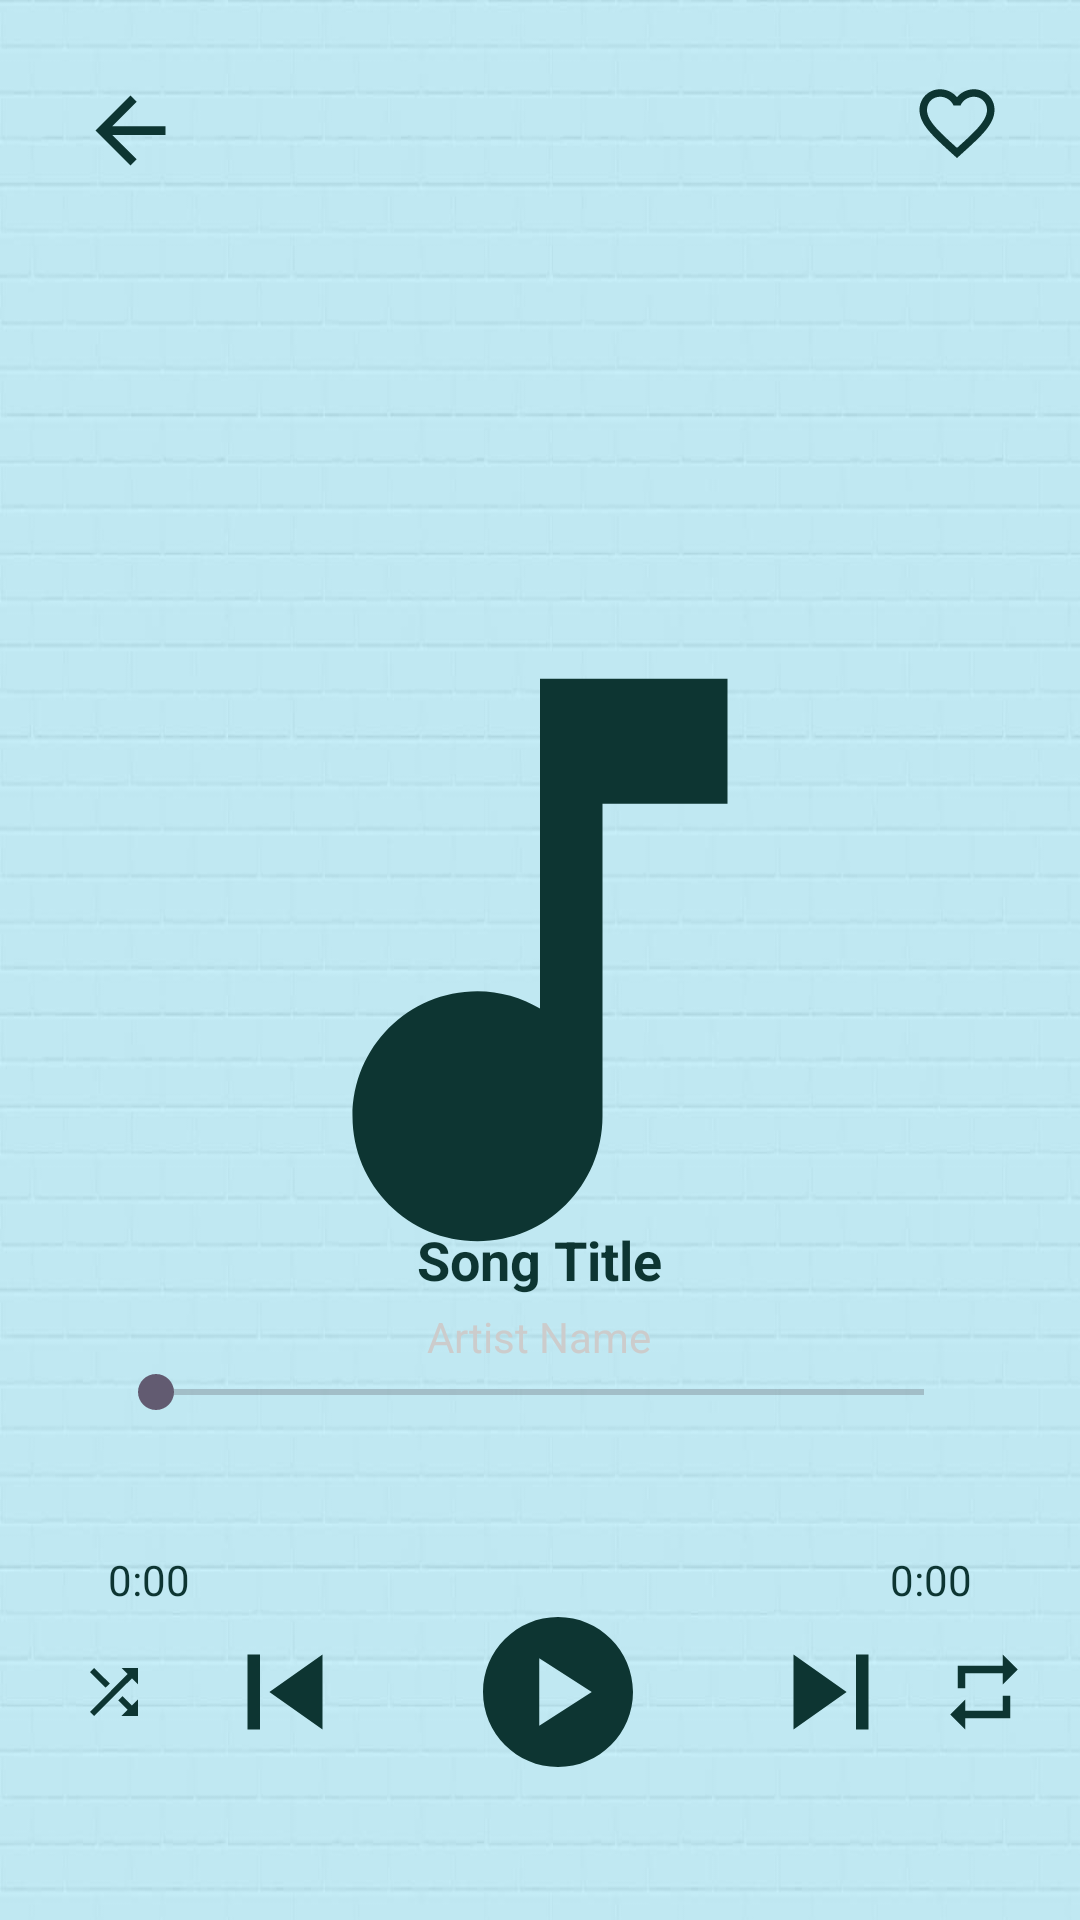

Icon bounding boxes for this 1080 x 1920 phone screenshot, format (x1, y1, x2, y2):
Play/Pause: (483, 1617, 633, 1767)
Previous: (247, 1654, 323, 1730)
Repeat: (950, 1654, 1018, 1729)
Shuffle: (90, 1668, 138, 1716)
